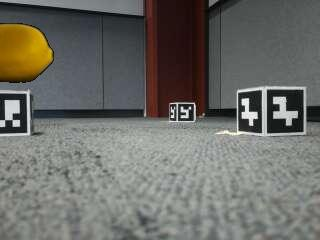lemon: (0, 25, 53, 83)
